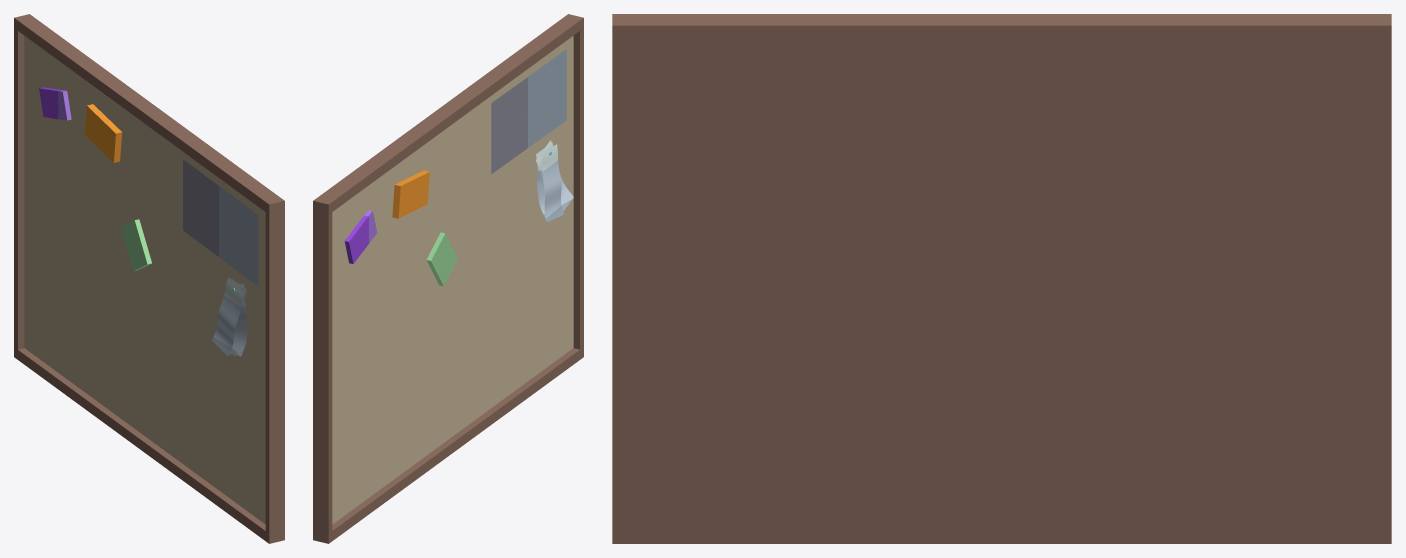
Rendered from marco.fbx.
The picture shows the model from 3 angles, left to right: view 1: azimuth 30°, elevation 25°; view 2: azimuth 150°, elevation 25°; view 3: azimuth 270°, elevation 25°; orthographic projection. The views are drawn at different scales.
Parts seen in each view (by area): view 1: marco; view 2: marco; view 3: marco.
Boxes of the visible parts, x1,y1,x2,y2 form: marco: (14, 14, 284, 543); marco: (313, 14, 583, 543); marco: (612, 14, 1391, 543).
Size of the model in its own units: 12.18 by 151 by 206.
